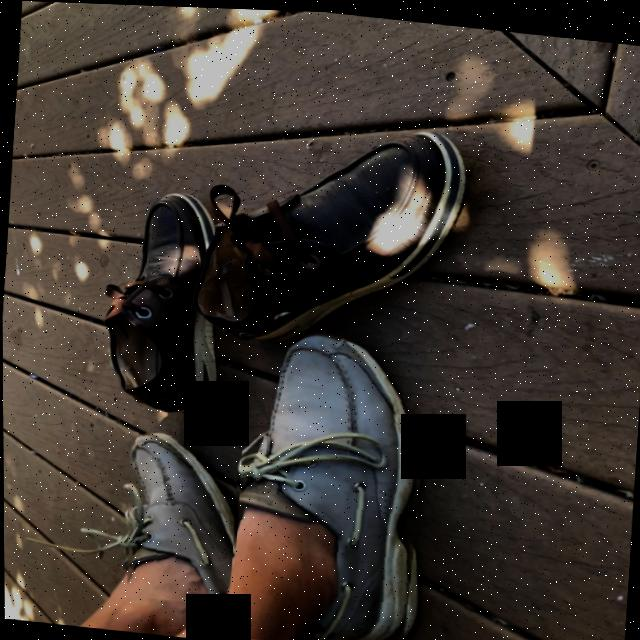shoe: (238, 333, 415, 640), (127, 434, 232, 603)
